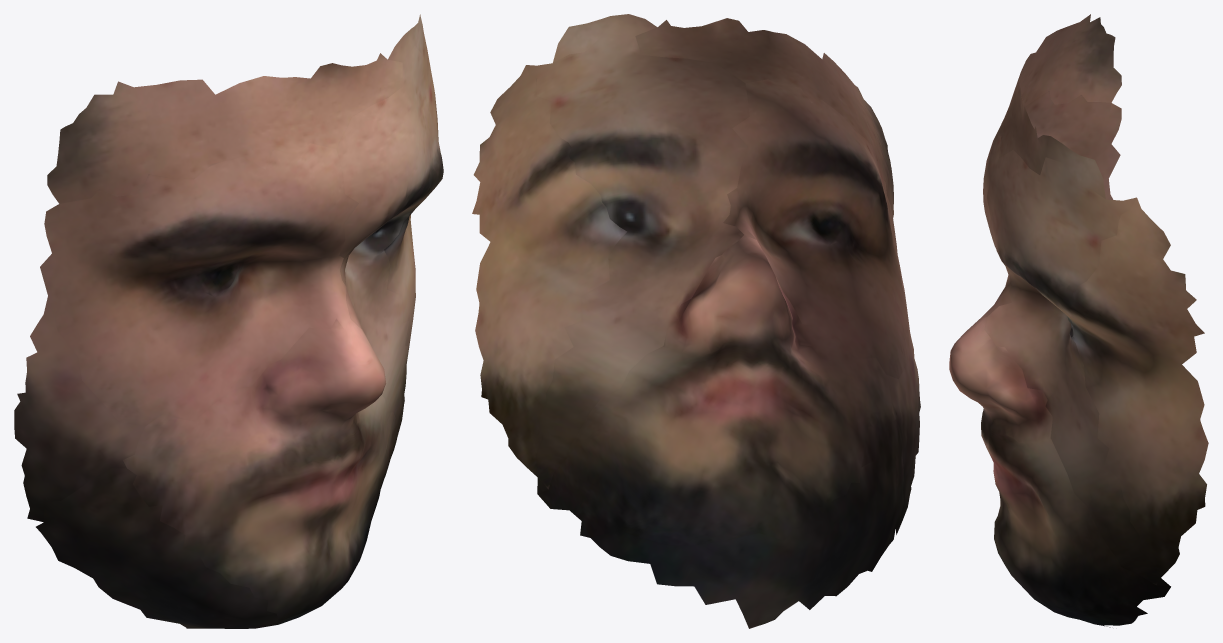
File: Giovani MetaHuman.fbx
3 renders of one model, left to right at view 1: azimuth 30°, elevation 25°; view 2: azimuth 150°, elevation 25°; view 3: azimuth 270°, elevation 25°, orthographic. The views are drawn at different scales.
Visible parts, largest first — view 1: Mesh_0; view 2: Mesh_0; view 3: Mesh_0.
Boxes of the visible parts, <box> form: Mesh_0: <box>14,14,443,628</box>; Mesh_0: <box>472,14,920,628</box>; Mesh_0: <box>949,14,1208,627</box>.
Size of the model in its own units: 16.73 by 21.63 by 9.29.
Materials: 1 (1 with a texture image).
